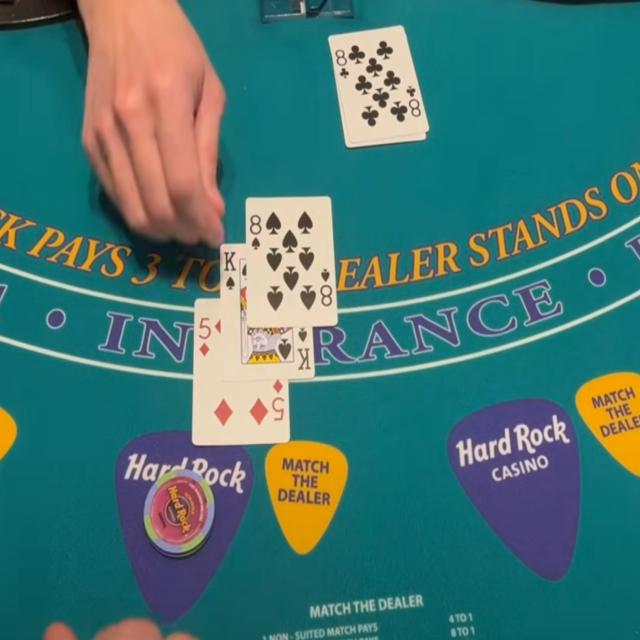5: (195, 313, 214, 341)
8: (249, 210, 263, 237), (333, 45, 349, 67)
K: (221, 246, 237, 273)
